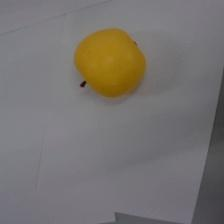yellow: (71, 24, 148, 99)
